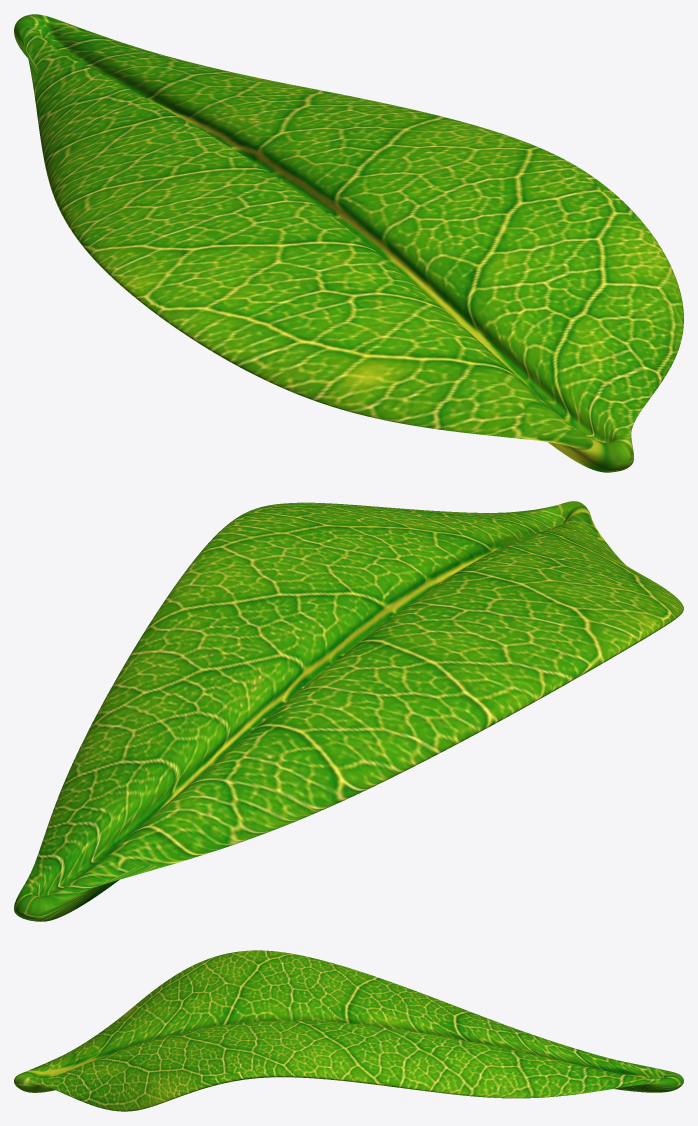
File: leaf.glb
3 views of the same model, one above another, from view 1: azimuth 30°, elevation 25°; view 2: azimuth 150°, elevation 25°; view 3: azimuth 270°, elevation 25° (orthographic). The views are drawn at different scales.
Parts seen in each view (by area): view 1: Plane_Material.002_0; view 2: Plane_Material.002_0; view 3: Plane_Material.002_0.
Boxes of the visible parts, box(x1,y1,x2,y2) form: Plane_Material.002_0: box(14, 14, 683, 472); Plane_Material.002_0: box(14, 501, 683, 921); Plane_Material.002_0: box(14, 950, 683, 1111).
Bounding box in the file's own units: 2.31 × 0.5642 × 5.1.
1 material, 1 textured.
